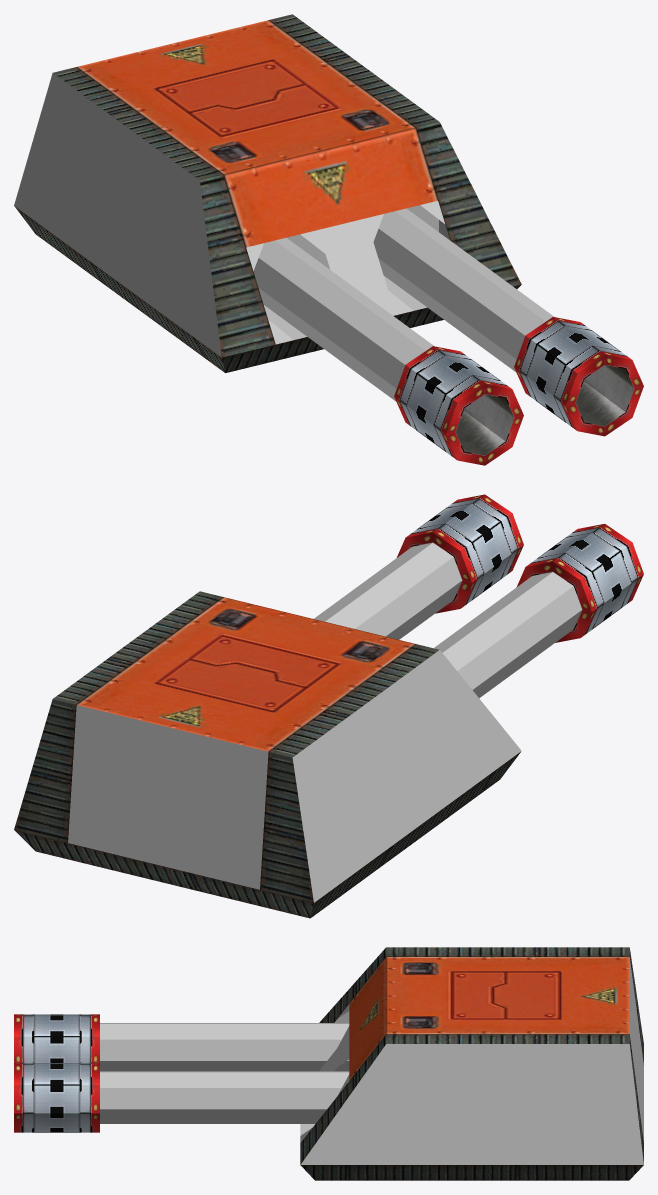
Rendered from Cannon Twin.obj.
3 renders of one model, top to bottom at view 1: azimuth 30°, elevation 25°; view 2: azimuth 150°, elevation 25°; view 3: azimuth 270°, elevation 25°, orthographic. The views are drawn at different scales.
Size of the model in its own units: 5 by 2.5 by 11.
